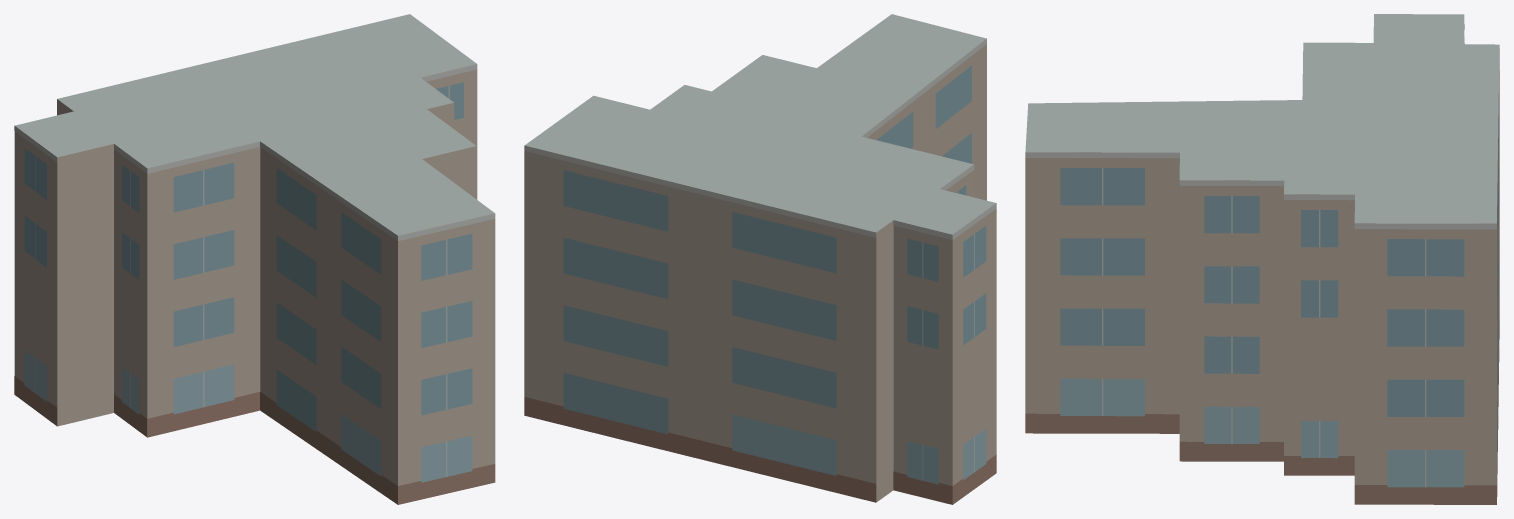
The model's file is survey-upis-32929995.glb.
3 views of the same model, side by side, from view 1: azimuth 30°, elevation 25°; view 2: azimuth 150°, elevation 25°; view 3: azimuth 270°, elevation 25° (orthographic). The views are drawn at different scales.
Parts seen in each view (by area): view 1: survey-upis-32929995.tmp; view 2: survey-upis-32929995.tmp; view 3: survey-upis-32929995.tmp.
Boxes of the visible parts, left/top/right/bottom form: survey-upis-32929995.tmp: left=14, top=14, right=495, bottom=504; survey-upis-32929995.tmp: left=524, top=14, right=996, bottom=504; survey-upis-32929995.tmp: left=1025, top=14, right=1499, bottom=504.
Bounding box in the file's own units: 19.53 × 12.2 × 18.66.
